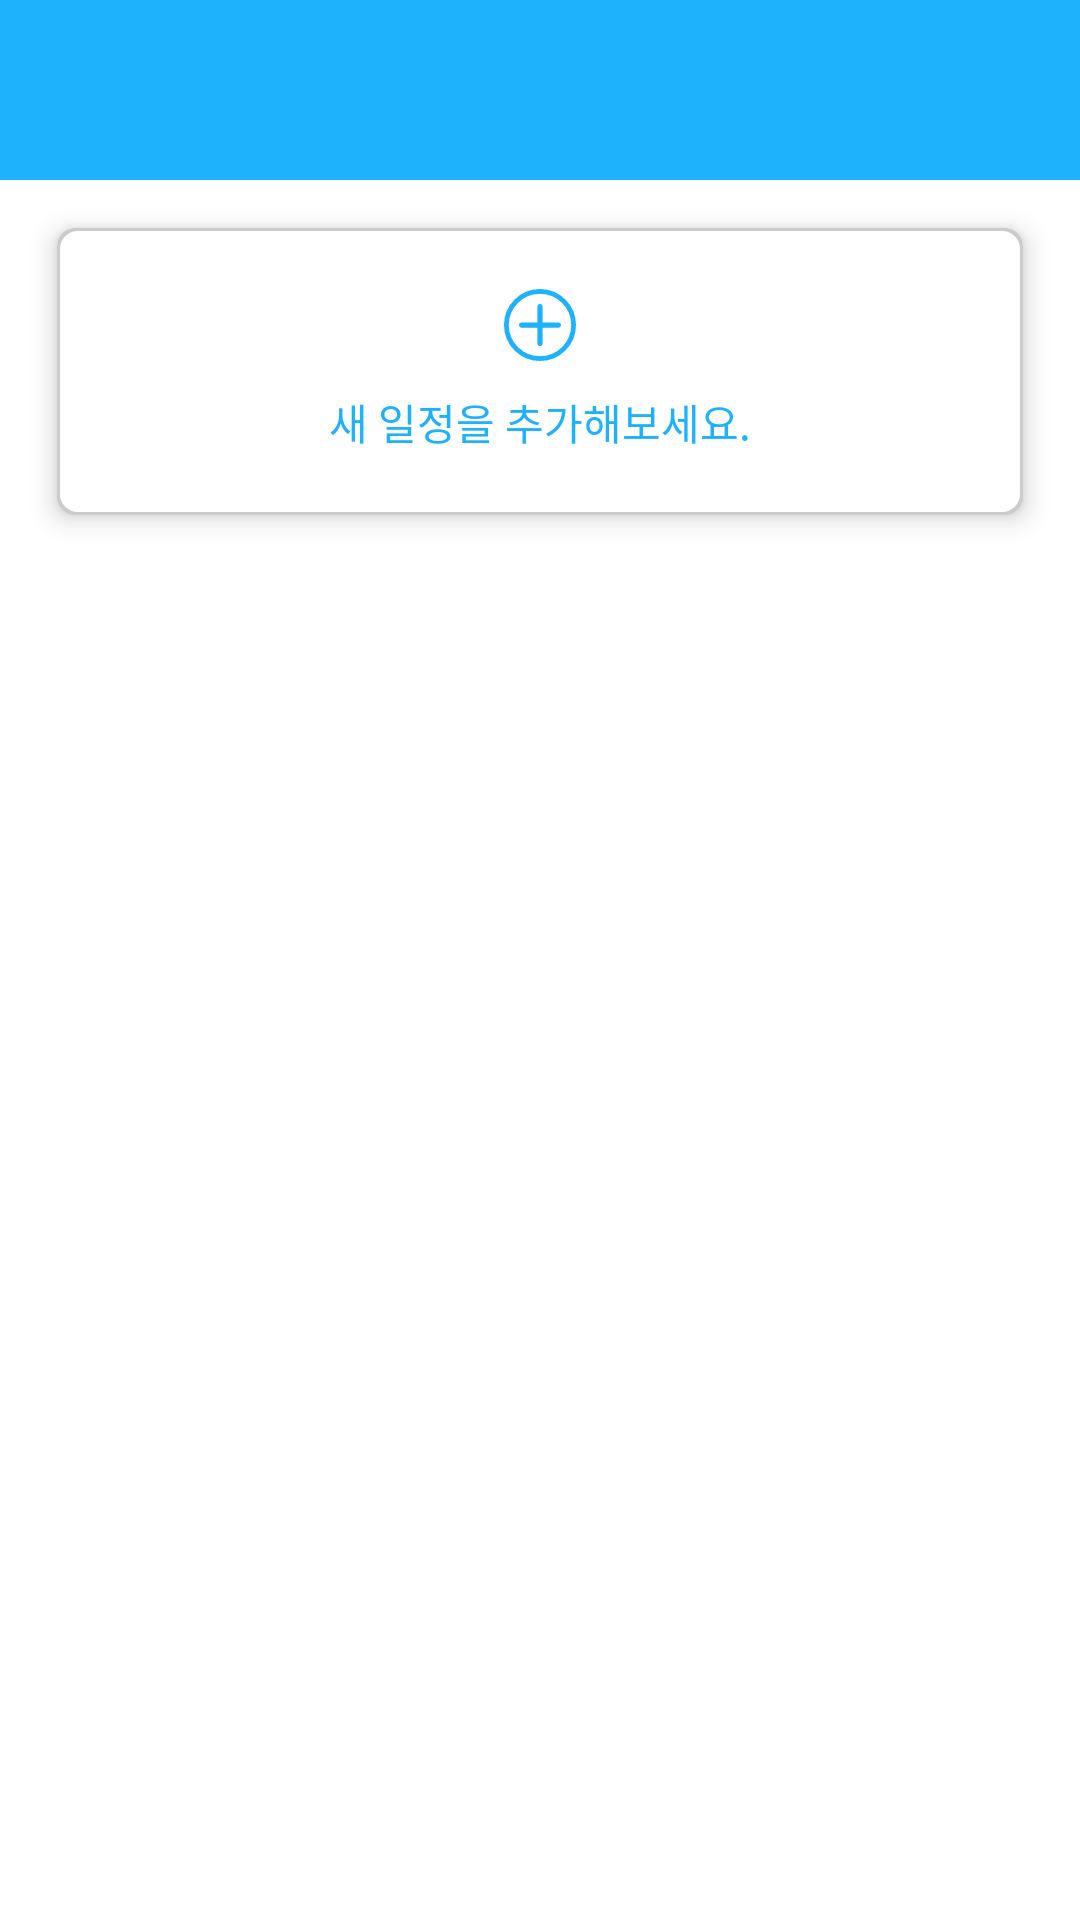

Icon click points for this 1080 × 1920 phone screenshot, format (x=x, y=y):
add schedule: (x=540, y=325)
